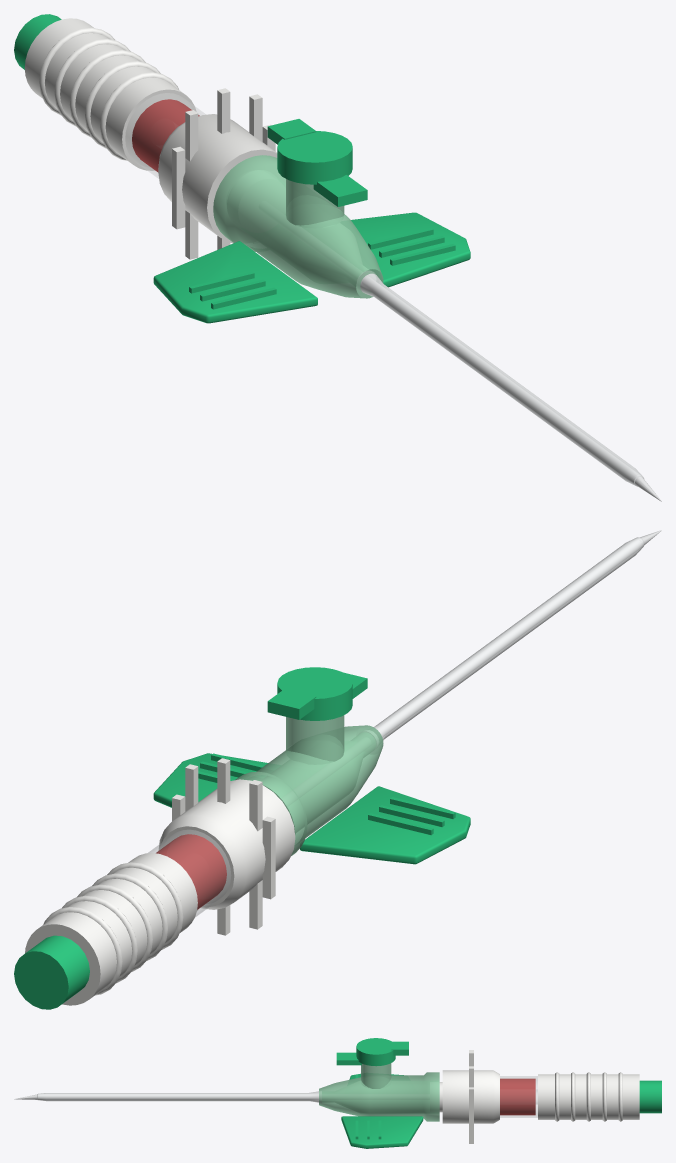
The model's file is catheter18.glb.
3 renders of one model, top to bottom at view 1: azimuth 30°, elevation 25°; view 2: azimuth 150°, elevation 25°; view 3: azimuth 270°, elevation 25°, orthographic. The views are drawn at different scales.
Visible parts, largest first — view 1: Catheter, Aiguille, Obturateur, Reflux; view 2: Catheter, Aiguille, Obturateur, Reflux; view 3: Catheter, Aiguille, Obturateur, Reflux.
Part boxes in pixels (<box>): Catheter: <box>153,119,644,486</box>; Aiguille: <box>14,14,661,501</box>; Obturateur: <box>158,88,277,259</box>; Reflux: <box>132,99,199,172</box>; Catheter: <box>153,537,644,864</box>; Aiguille: <box>14,530,661,1009</box>; Obturateur: <box>158,758,295,935</box>; Reflux: <box>156,834,226,909</box>; Catheter: <box>37,1038,439,1148</box>; Aiguille: <box>14,1072,661,1121</box>; Obturateur: <box>439,1050,499,1143</box>; Reflux: <box>500,1078,535,1115</box>.
Bounding box in the file's own units: 0.027 × 0.0167 × 0.102.
